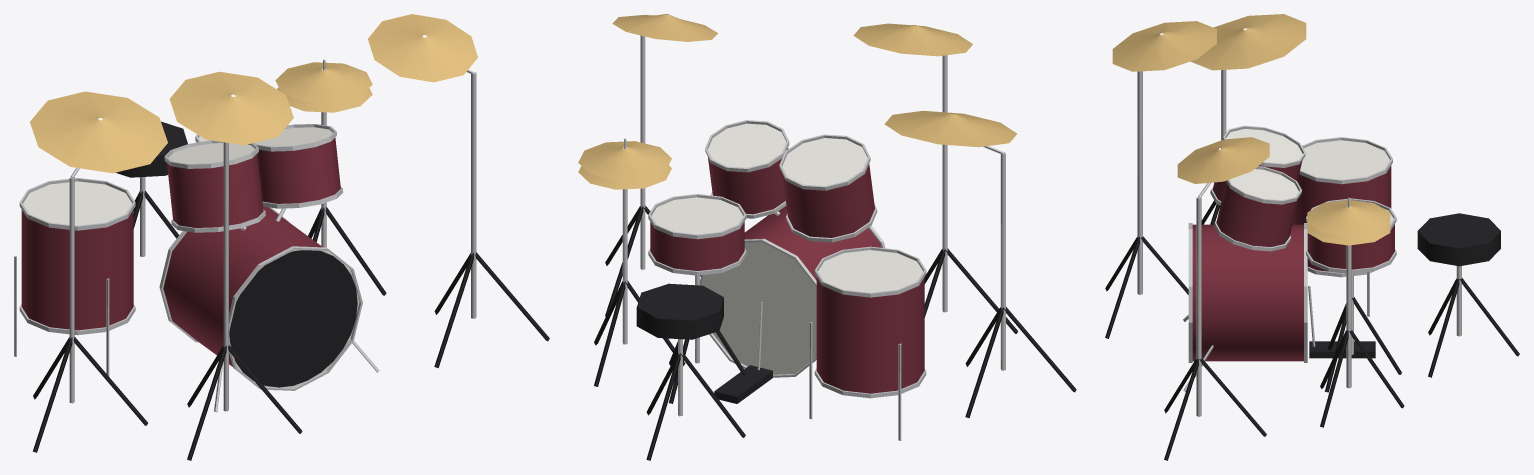
Rendered from drum-set-low.glb.
The picture shows the model from 3 angles, left to right: view 1: azimuth 30°, elevation 25°; view 2: azimuth 150°, elevation 25°; view 3: azimuth 270°, elevation 25°; orthographic projection. The views are drawn at different scales.
Parts seen in each view (by area): view 1: shell, cymbal, artwork, metal, frame, head; view 2: shell, head, metal, cymbal, frame; view 3: shell, cymbal, frame, metal, head.
Part boxes in pixels (<box>): shell: <box>21,138,340,366</box>; cymbal: <box>30,14,477,173</box>; artwork: <box>229,250,357,387</box>; metal: <box>14,59,476,412</box>; frame: <box>32,121,549,460</box>; head: <box>23,127,359,387</box>; shell: <box>650,148,924,393</box>; head: <box>651,123,923,374</box>; metal: <box>622,35,1005,440</box>; cymbal: <box>578,14,1017,189</box>; frame: <box>594,205,1076,460</box>; shell: <box>1192,161,1394,361</box>; cymbal: <box>1112,14,1390,245</box>; frame: <box>1105,200,1519,460</box>; metal: <box>1137,69,1461,416</box>; head: <box>1226,129,1393,223</box>.
Bounding box in the file's own units: 2.11 × 1.3 × 1.69.
